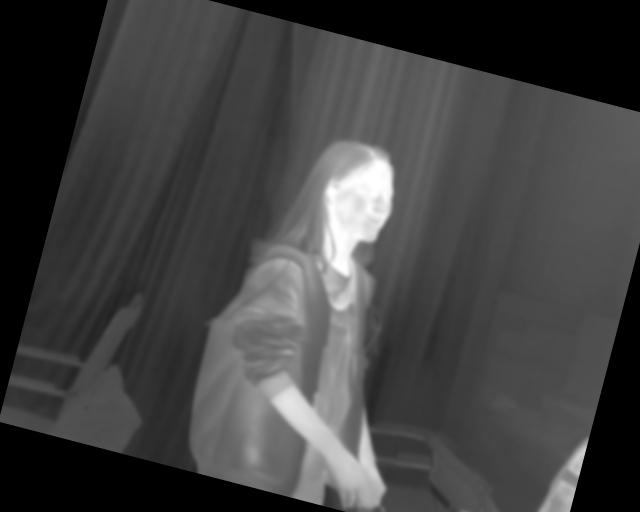face: (299, 130, 406, 248)
